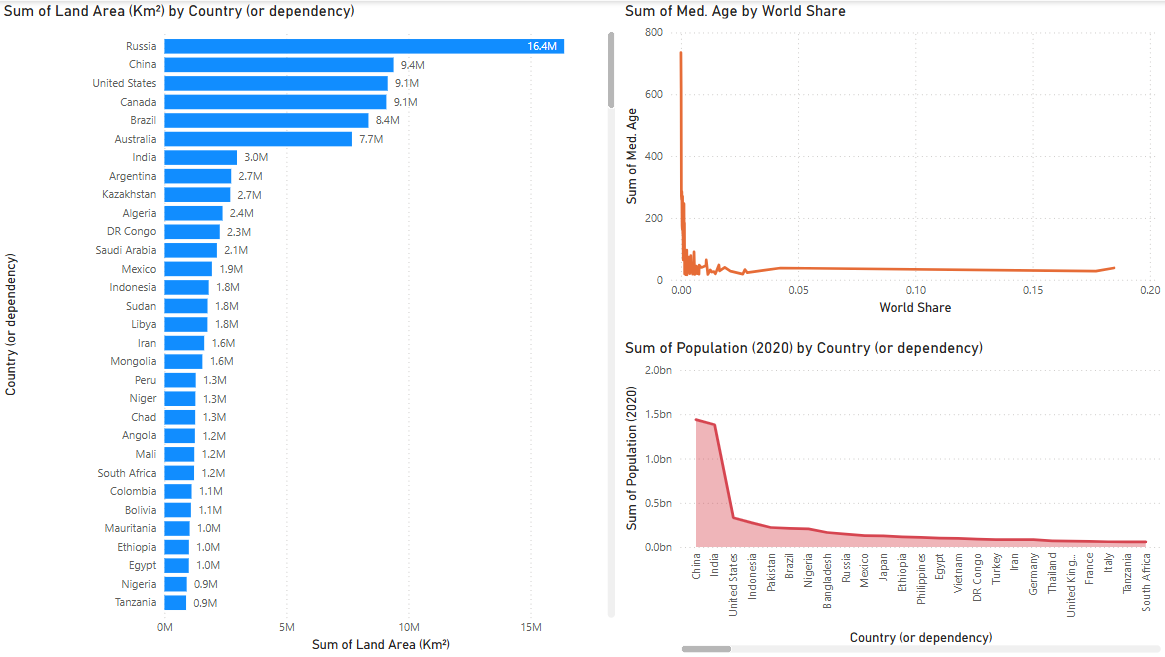

What the dashboard file says about the page in this screenshot:
{"tool":"powerbi","page":{"name":"Page 1","canvas":[1280,720],"ordinal":0},"visuals":[{"type":"clusteredBarChart","fields":{"Y":["Sum(population_by_country_2020.Land Area (Km²))"],"Category":["population_by_country_2020.Country (or dependency)"]},"box":[0,0,681.4,720],"z":0},{"type":"lineChart","fields":{"Category":["population_by_country_2020.World Share"],"Y":["Sum(population_by_country_2020.Med. Age)"]},"box":[681.4,0,598.6,350],"z":1000},{"type":"areaChart","fields":{"Category":["population_by_country_2020.Country (or dependency)"],"Y":["Sum(population_by_country_2020.Population (2020))"]},"box":[681.4,370,598.6,350],"z":2000}]}

Visuals, with their boxes in screenshot pixels (x1, y1, x2, y2), scaled from the page's 1280x720 canvas onto the 1165x657 screenshot:
clusteredBarChart - Sum(population_by_country_2020.Land Area (Km²)) x population_by_country_2020.Country (or dependency): box=[0, 0, 620, 656]
lineChart - population_by_country_2020.World Share x Sum(population_by_country_2020.Med. Age): box=[620, 0, 1164, 319]
areaChart - population_by_country_2020.Country (or dependency) x Sum(population_by_country_2020.Population (2020)): box=[620, 338, 1164, 656]
